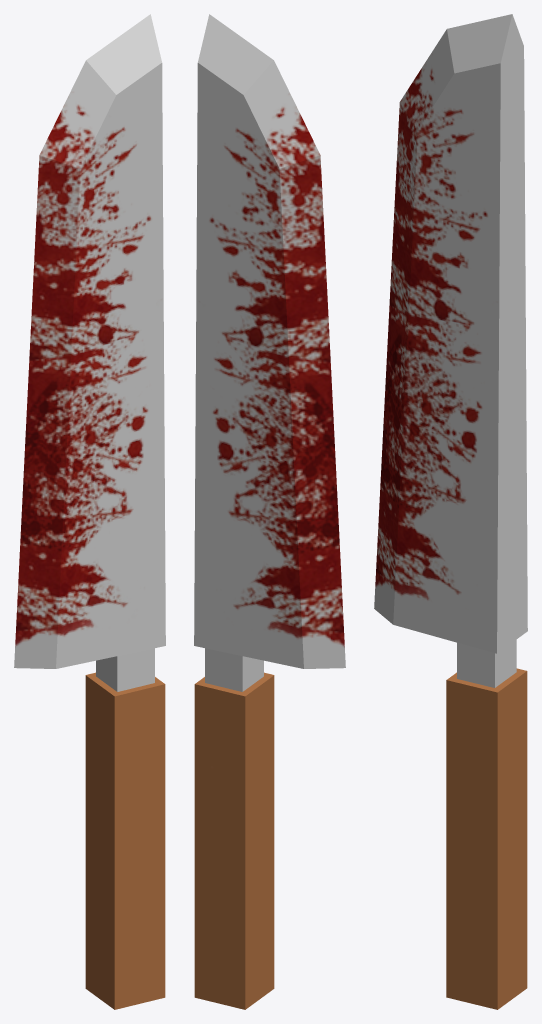
File: kitchenKnife4_PLY.fbx
The picture shows the model from 3 angles, left to right: view 1: azimuth 30°, elevation 25°; view 2: azimuth 150°, elevation 25°; view 3: azimuth 330°, elevation 25°; orthographic projection.
Parts seen in each view (by area): view 1: kitchenKnife4_PLY; view 2: kitchenKnife4_PLY; view 3: kitchenKnife4_PLY.
Boxes of the visible parts, x1=… form: kitchenKnife4_PLY: x1=14, y1=14, x2=165, y2=1009; kitchenKnife4_PLY: x1=194, y1=14, x2=345, y2=1009; kitchenKnife4_PLY: x1=374, y1=14, x2=527, y2=1009.
Bounding box in the file's own units: 0.2009 × 1.37 × 0.0776.
